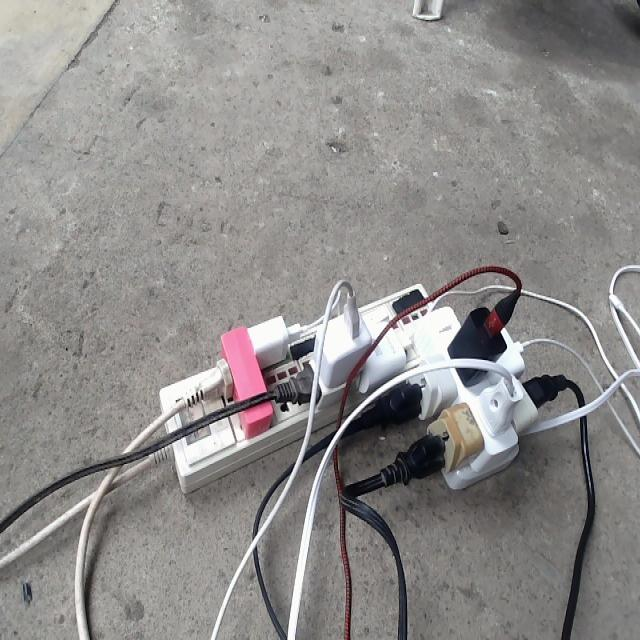-: (154, 278, 555, 491)
